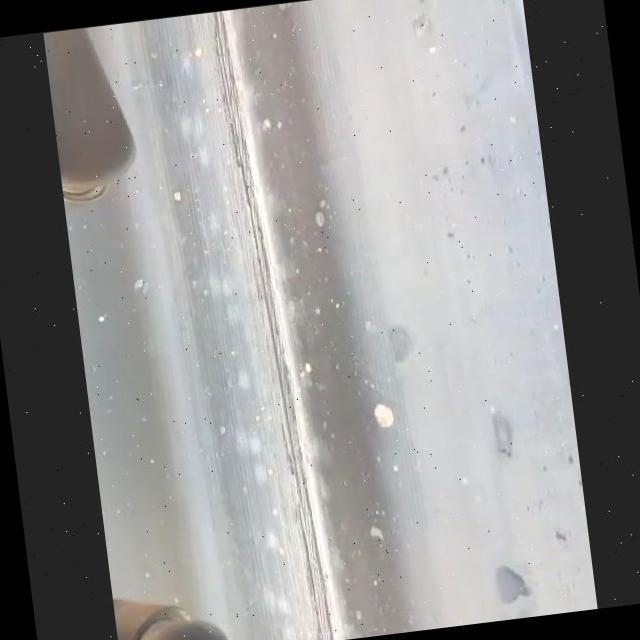Wear: (208, 9, 340, 639)
